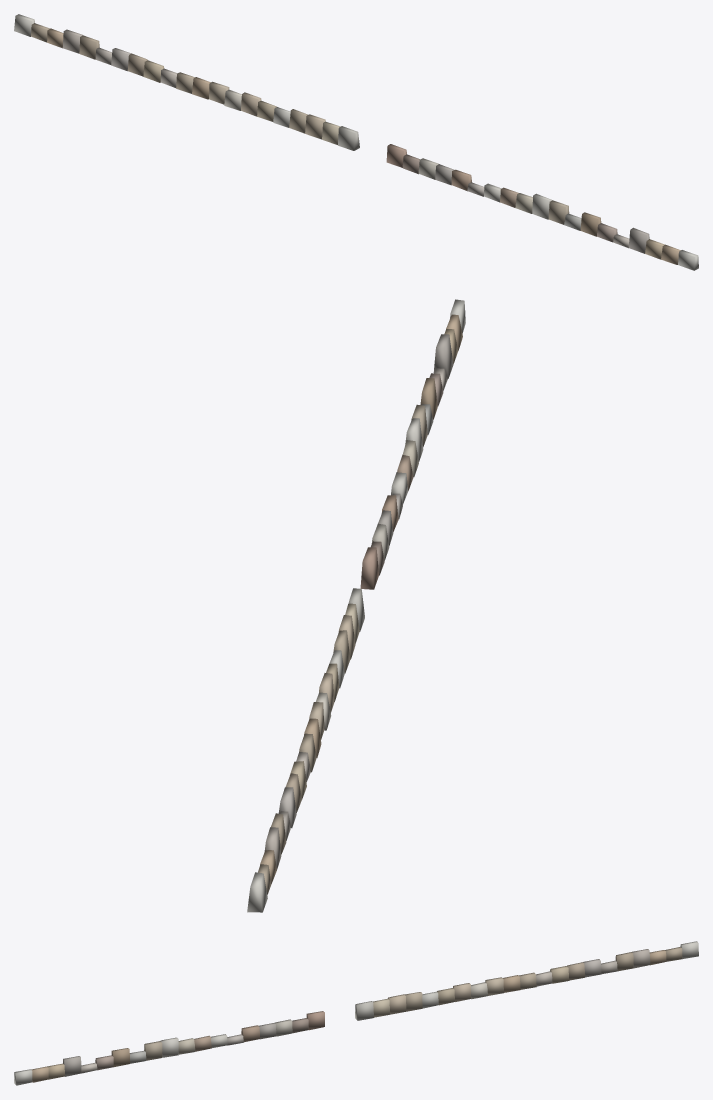
The model's file is farm_24_10_far.glb.
3 views of the same model, one above another, from view 1: azimuth 30°, elevation 25°; view 2: azimuth 150°, elevation 25°; view 3: azimuth 270°, elevation 25° (orthographic). The views are drawn at different scales.
Parts seen in each view (by area): view 1: geometry_0; view 2: geometry_0; view 3: geometry_0.
Part boxes in pixels (x1,y1,x2,y2): geometry_0: (14,14,698,270); geometry_0: (247,299,465,912); geometry_0: (14,941,698,1085).
Bounding box in the file's own units: 25.2 × 2.62 × 61.06.
